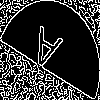A: (25, 25, 63, 81)
